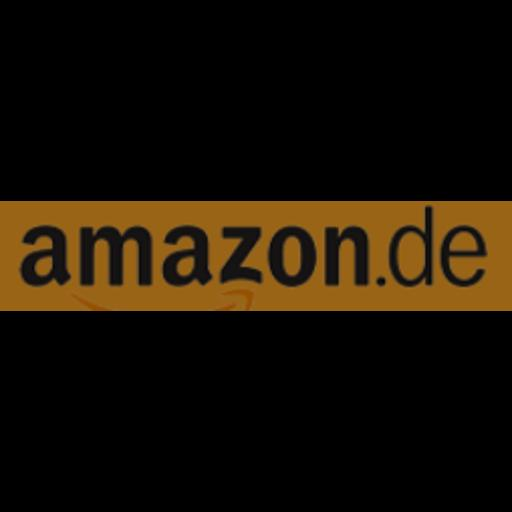Amazon: (0, 201, 512, 311)
